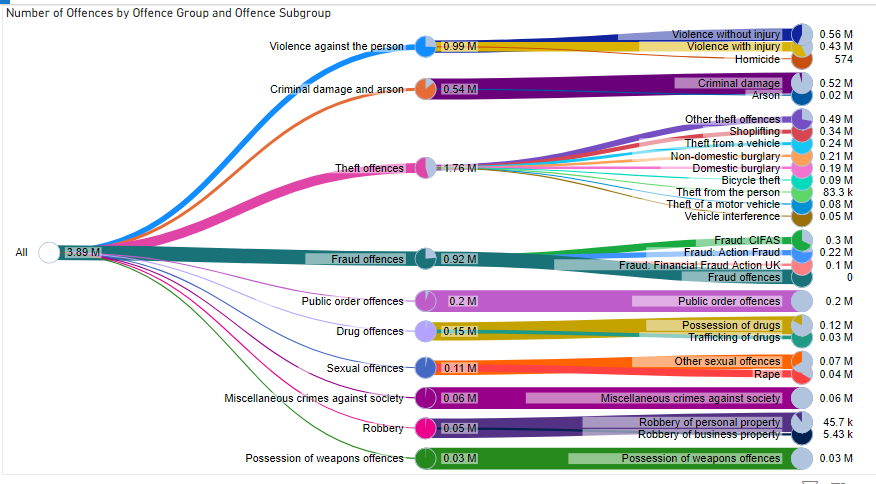

Layout of this report page (visuals, bound fields, positions):
{"tool":"powerbi","page":{"name":"Page 3","canvas":[1280,720],"ordinal":10},"visuals":[{"type":"testTooltip4696B540F3494FE5BA002362825DDE7D","fields":{"category":["2015-16.Offence Group","2015-16.Offence Subgroup"],"measure":["Sum(2015-16.Number of Offences)"]},"box":[9.6,0,1207.1,646.9],"z":0}]}

Visuals, with their boxes in screenshot pixels (x1, y1, x2, y2), scaled from the page's 1280x720 canvas onto the 876x484 screenshot:
testTooltip4696B540F3494FE5BA002362825DDE7D - 2015-16.Offence Group x 2015-16.Offence Subgroup: select_region(7, 0, 833, 435)
